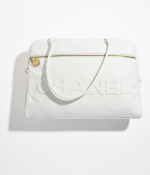channel: (24, 36, 147, 123), (34, 72, 137, 105)
